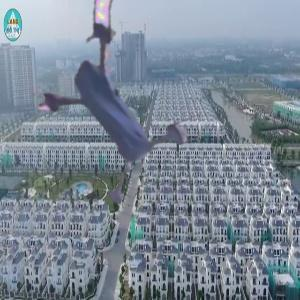drone: (27, 6, 219, 198)
